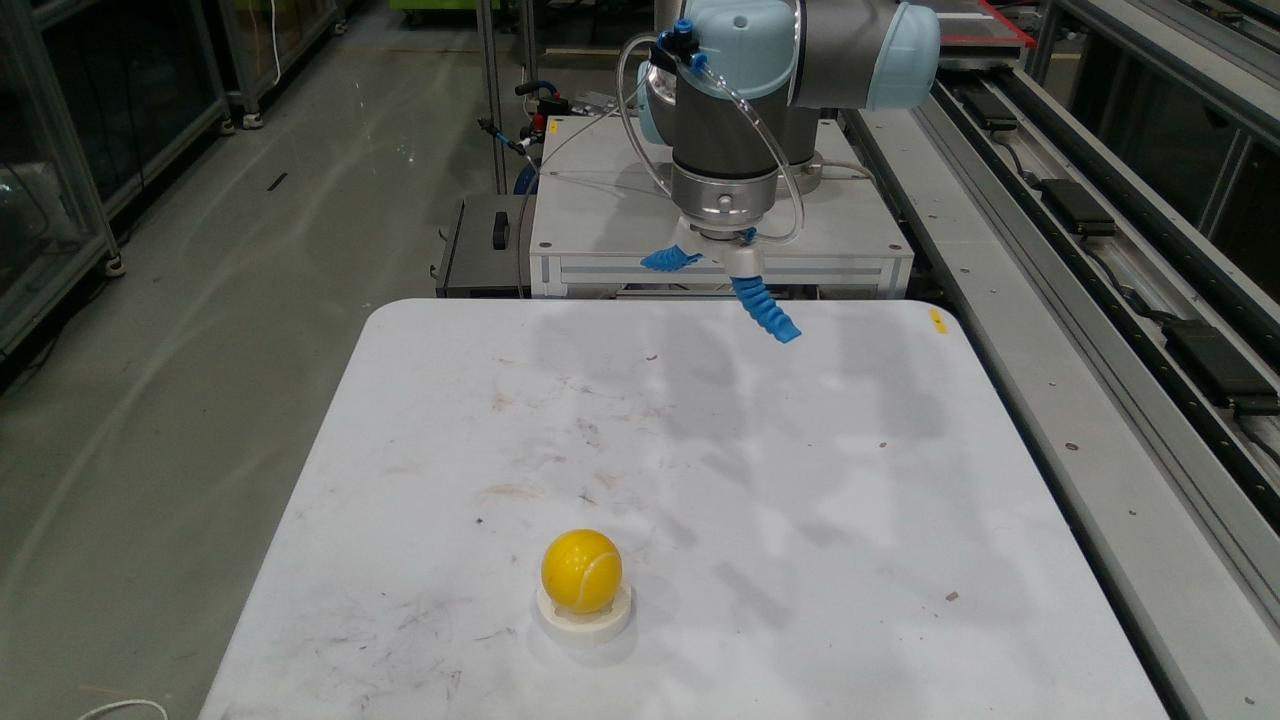UR5: (637, 0, 942, 277)
gripper_left: (640, 246, 702, 271)
gripper_right: (732, 276, 799, 341)
target: (541, 529, 623, 614), (537, 584, 632, 646)
